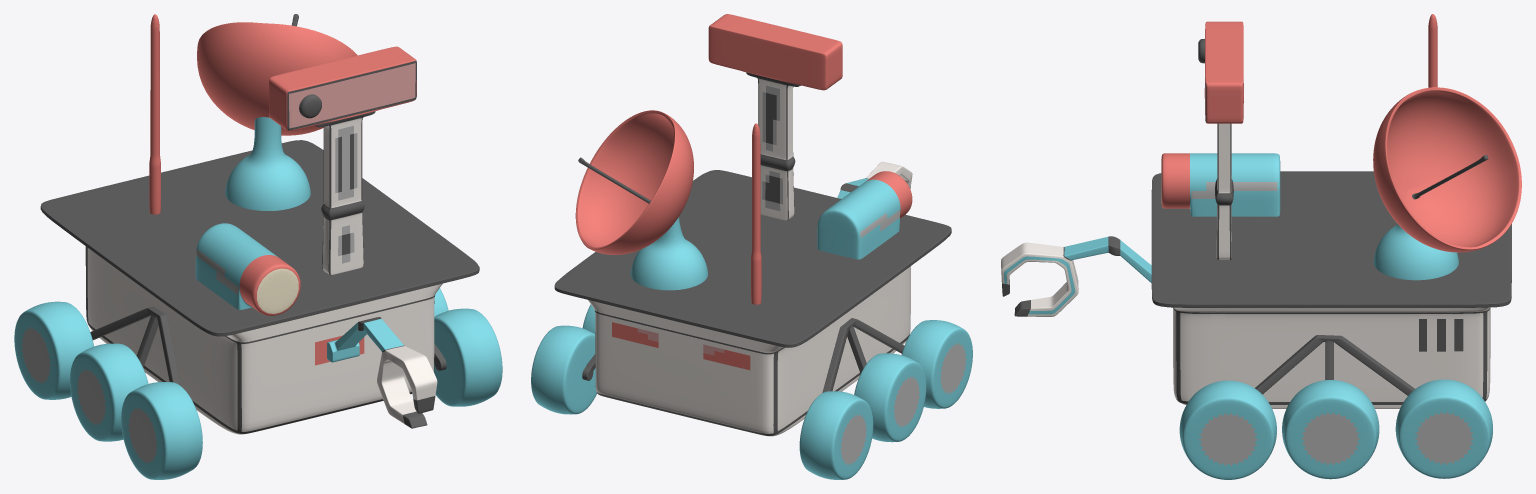
File: Rover_Easy_final.fbx
3 views of the same model, side by side, from view 1: azimuth 30°, elevation 25°; view 2: azimuth 150°, elevation 25°; view 3: azimuth 270°, elevation 25° (orthographic). The views are drawn at different scales.
Visible parts, largest first — view 1: Body, Head_1, Satellite, Light, FR_Wheel, BR_Wheel, FR_Wheel_001, Arm, MR_Wheel, WheelForkRight; view 2: Body, Satellite, Head_1, Light, BR_Wheel, BR_Wheel_001, MR_Wheel, FR_Wheel, WheelForkRight, Arm; view 3: Body, Satellite, FR_Wheel_001, BR_Wheel_001, MR_Wheel_001, Light, Head_1, Arm, WheelForkRight_001.
Part boxes in pixels (<box>): Body: <box>40,14,479,434</box>; Head_1: <box>269,46,416,275</box>; Satellite: <box>197,14,357,210</box>; Light: <box>195,223,300,315</box>; FR_Wheel: <box>121,382,202,479</box>; BR_Wheel: <box>14,301,94,399</box>; FR_Wheel_001: <box>434,308,502,406</box>; Arm: <box>327,317,437,428</box>; MR_Wheel: <box>70,343,148,441</box>; WheelForkRight: <box>90,306,180,385</box>; Body: <box>554,123,951,436</box>; Satellite: <box>575,110,707,290</box>; Head_1: <box>708,14,842,220</box>; Light: <box>817,171,912,259</box>; BR_Wheel: <box>799,391,873,479</box>; BR_Wheel_001: <box>531,325,596,414</box>; MR_Wheel: <box>854,353,926,442</box>; FR_Wheel: <box>901,320,972,408</box>; WheelForkRight: <box>822,318,904,392</box>; Arm: <box>837,161,912,198</box>; Body: <box>1151,14,1511,408</box>; Satellite: <box>1373,87,1521,280</box>; FR_Wheel_001: <box>1179,380,1276,479</box>; BR_Wheel_001: <box>1395,379,1492,478</box>; MR_Wheel_001: <box>1282,380,1379,479</box>; Light: <box>1161,153,1280,216</box>; Head_1: <box>1198,21,1243,259</box>; Arm: <box>1001,236,1151,316</box>; WheelForkRight_001: <box>1255,335,1414,395</box>.
Bounding box in the file's own units: 102 × 105 × 136.
